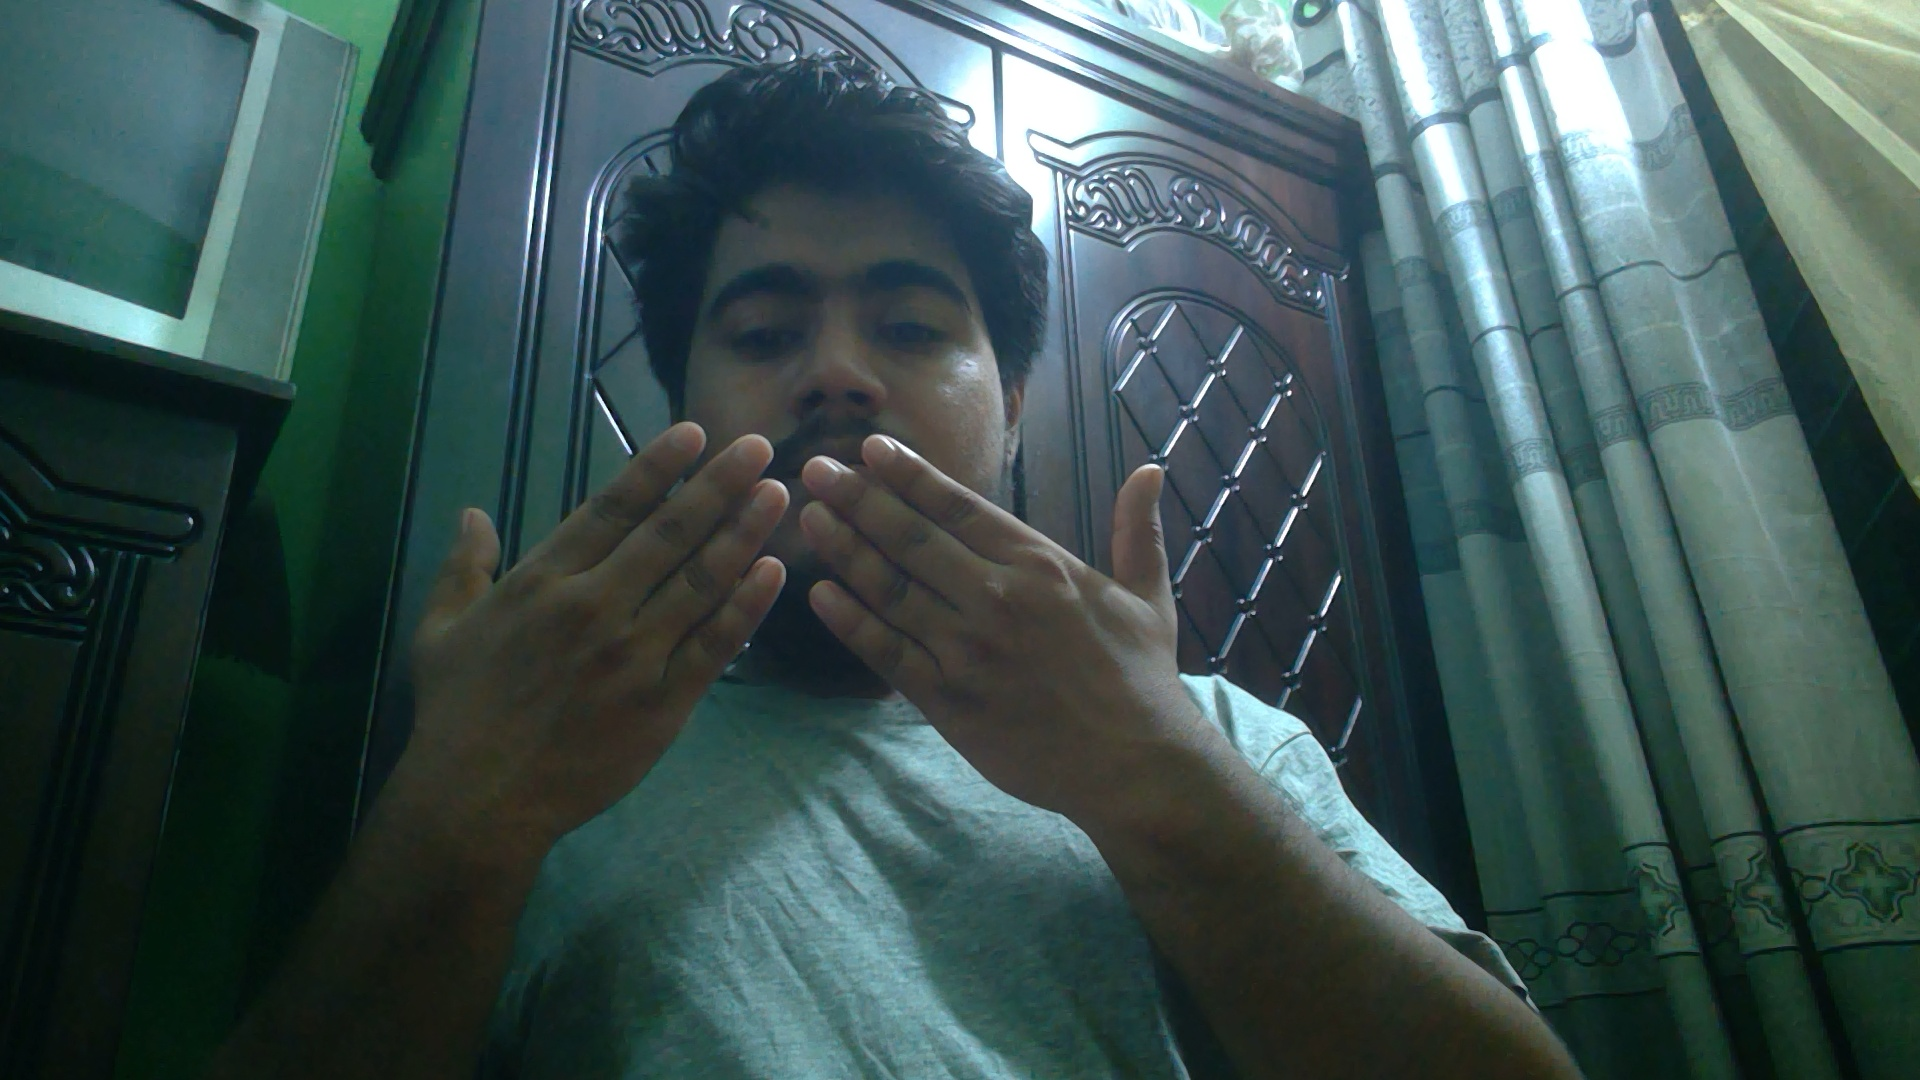thanks: (406, 411, 1195, 771)
